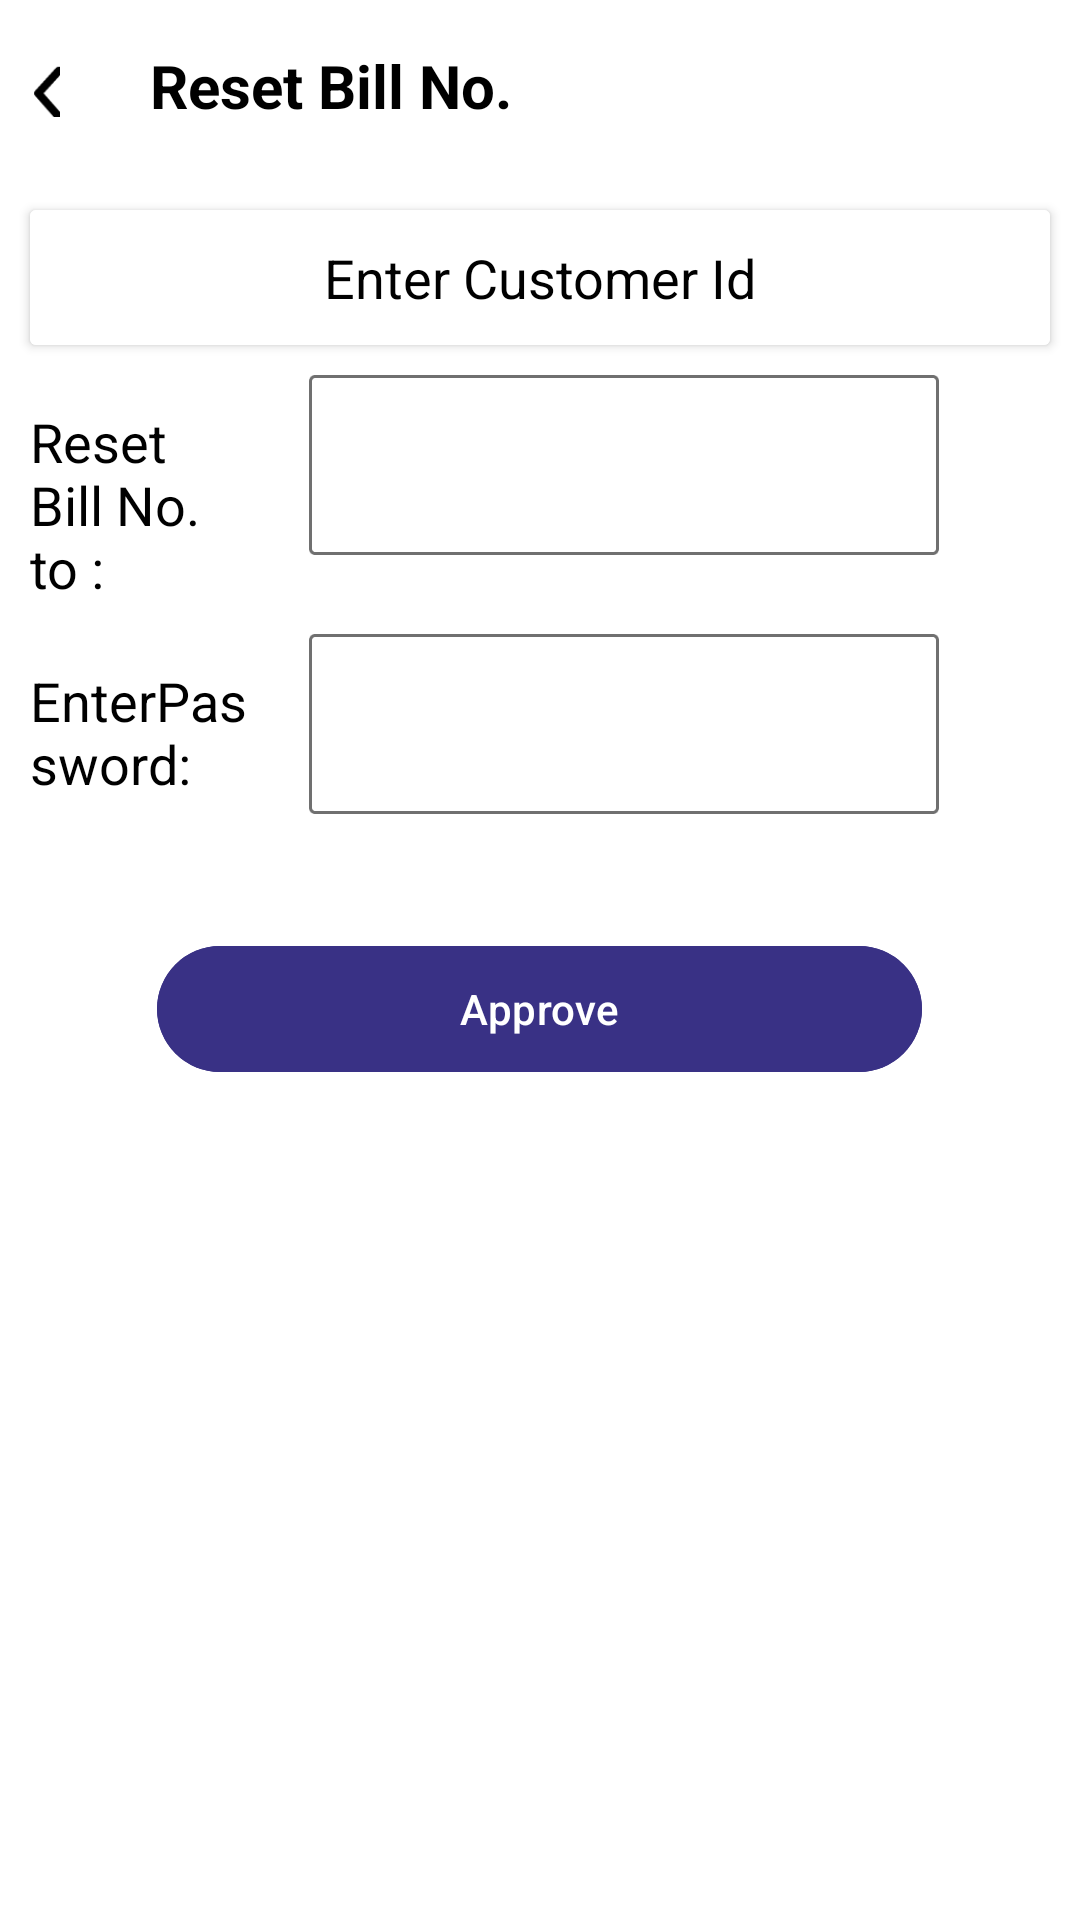

Named icons in this screenshot (1080 x 1920) and their bounding boxes, (x1, y1, x2, y2):
arrowback: (34, 66, 60, 117)
